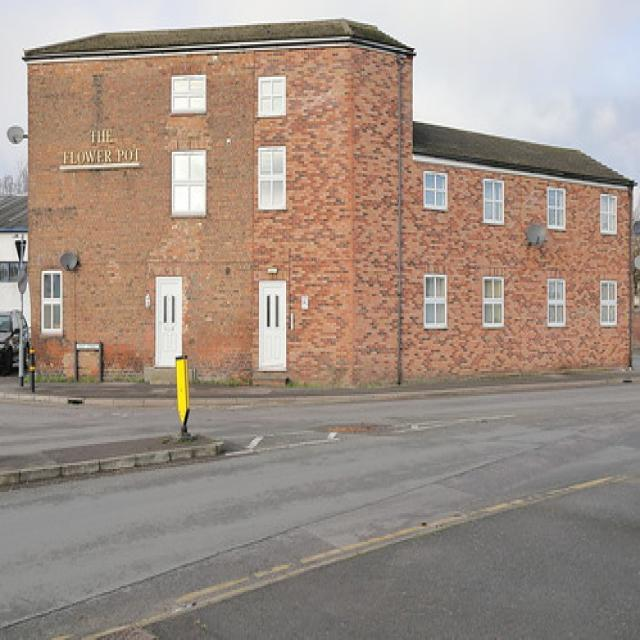building: (18, 12, 634, 404)
